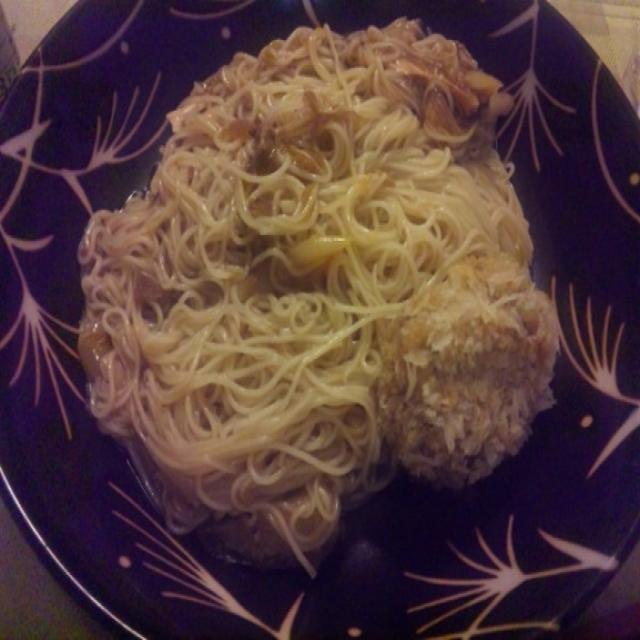面条主食: (13, 10, 616, 612)
